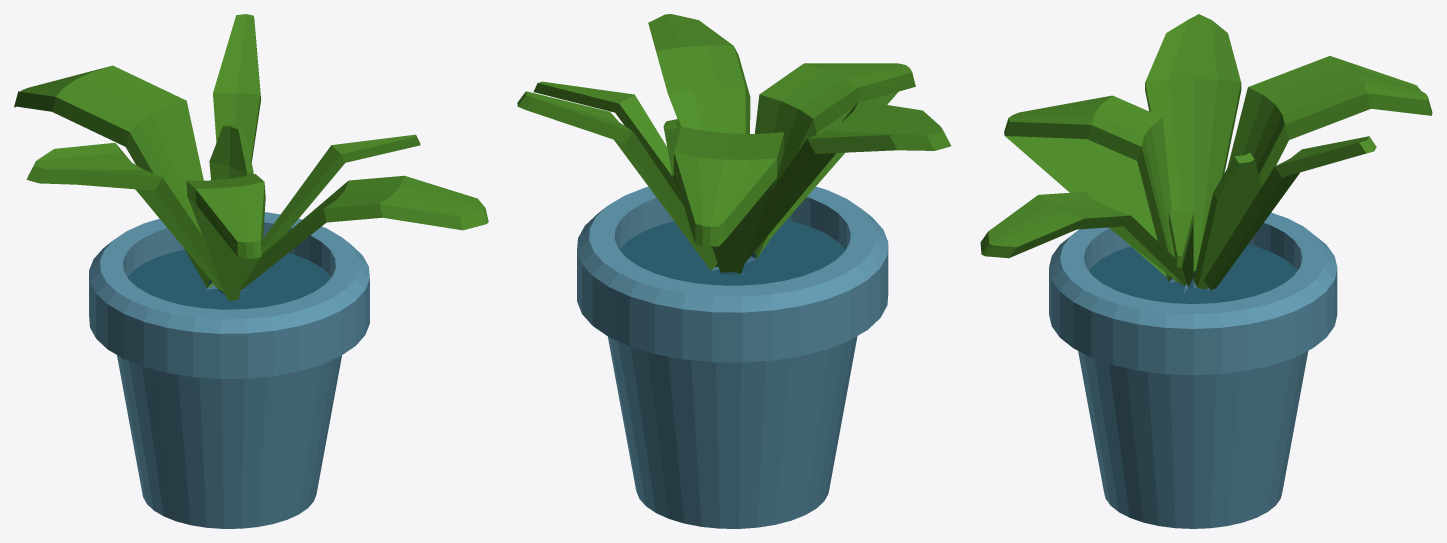
Rendered from flower_2.fbx.
3 views of the same model, side by side, from view 1: azimuth 30°, elevation 25°; view 2: azimuth 150°, elevation 25°; view 3: azimuth 270°, elevation 25° (orthographic). The views are drawn at different scales.
Parts seen in each view (by area): view 1: Цилиндр.006; view 2: Цилиндр.006; view 3: Цилиндр.006.
Part boxes in pixels (<box>): Цилиндр.006: <box>14,14,488,528</box>; Цилиндр.006: <box>517,14,950,528</box>; Цилиндр.006: <box>980,14,1432,528</box>.
Size of the model in its own units: 189 by 183 by 187.
